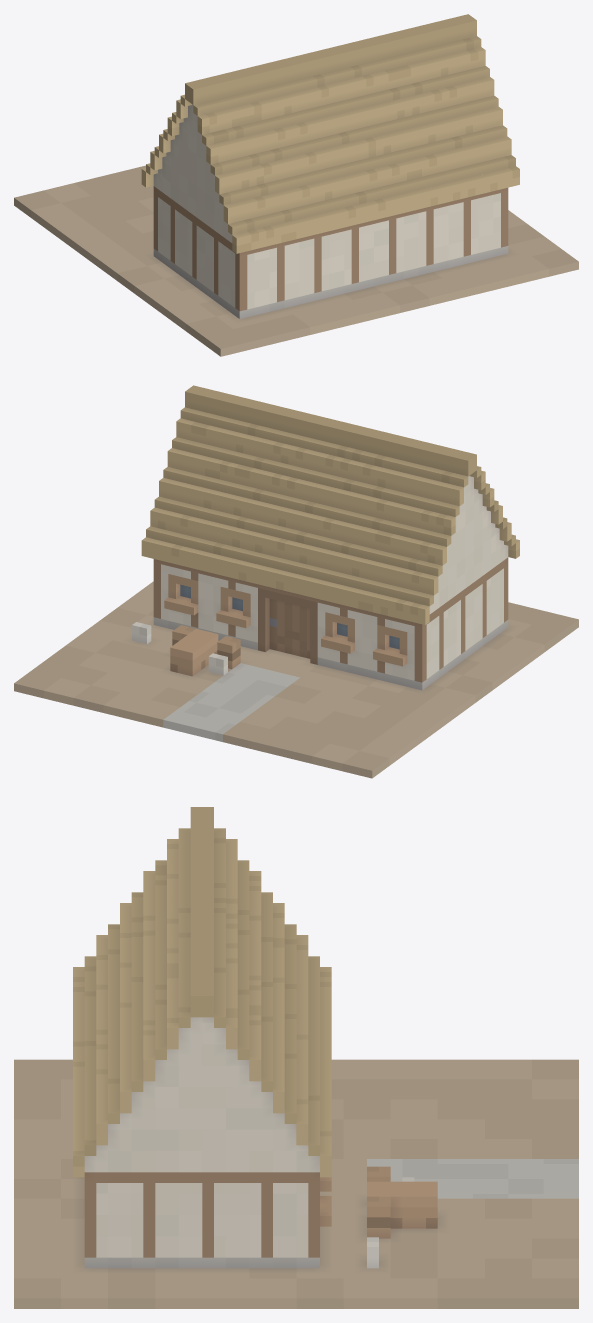
File: warehouse.l1.glb
The picture shows the model from 3 angles, top to bottom: view 1: azimuth 30°, elevation 25°; view 2: azimuth 150°, elevation 25°; view 3: azimuth 270°, elevation 25°; orthographic projection. The views are drawn at different scales.
Parts seen in each view (by area): view 1: warehouse; view 2: warehouse; view 3: warehouse.
Part boxes in pixels (x1,y1,x2,y2): warehouse: [14, 14, 578, 356]; warehouse: [14, 385, 578, 778]; warehouse: [14, 807, 578, 1308].
Size of the model in its own units: 6 by 3.38 by 6.
